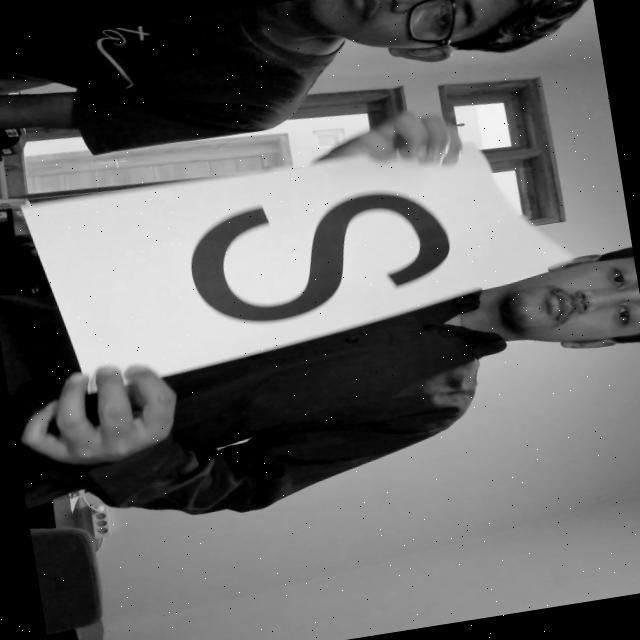s: (169, 174, 465, 349)
